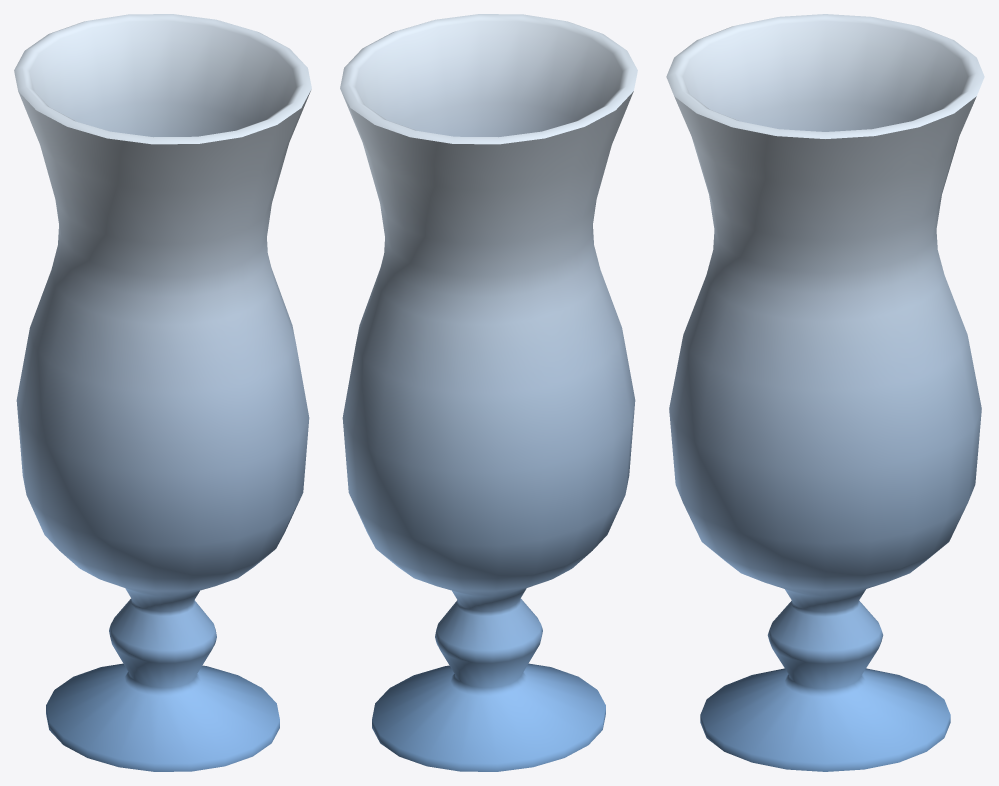
The model's file is glass_002.fbx.
3 views of the same model, side by side, from view 1: azimuth 30°, elevation 25°; view 2: azimuth 150°, elevation 25°; view 3: azimuth 270°, elevation 25° (orthographic).
Parts seen in each view (by area): view 1: glass_002; view 2: glass_002; view 3: glass_002.
Boxes of the visible parts, left/top/right/bottom form: glass_002: left=14, top=14, right=311, bottom=771; glass_002: left=340, top=14, right=637, bottom=771; glass_002: left=666, top=14, right=984, bottom=771.
Size of the model in its own units: 7.52 by 8.12 by 18.3.
